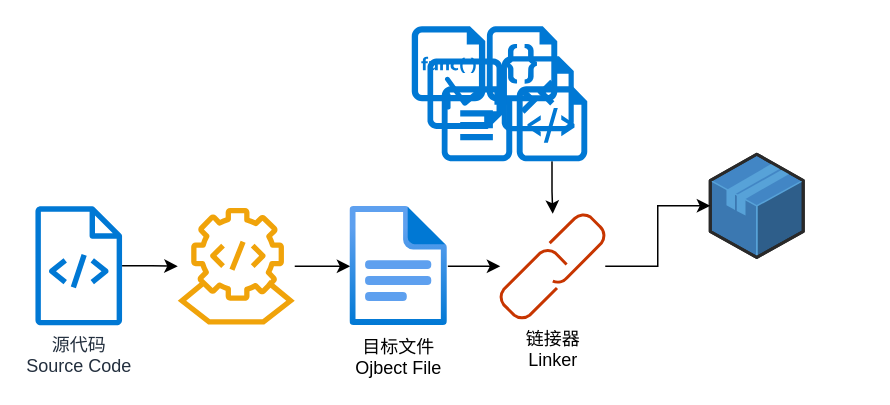
Some shapes in this 890 by 405 pixel diagram are drawn without their labels. Each missing label, with the centre of its shape:
"可执行文件、库文件，…… Executable, Static library, Dynamic library, ... ..." belongs at point (756, 205).
"编译器 Compiler" belongs at point (235, 265).
